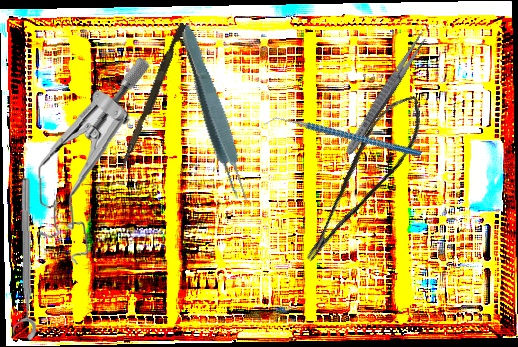Chopper: (263, 70, 423, 206)
Dressing Forceps: (342, 29, 430, 158)
Fixation Ring: (8, 177, 37, 342)
Micro Scissor: (277, 84, 442, 267)
Pusher: (118, 21, 187, 174)
Speculum: (30, 57, 157, 268)
Tissue Forceps: (172, 20, 255, 209)
